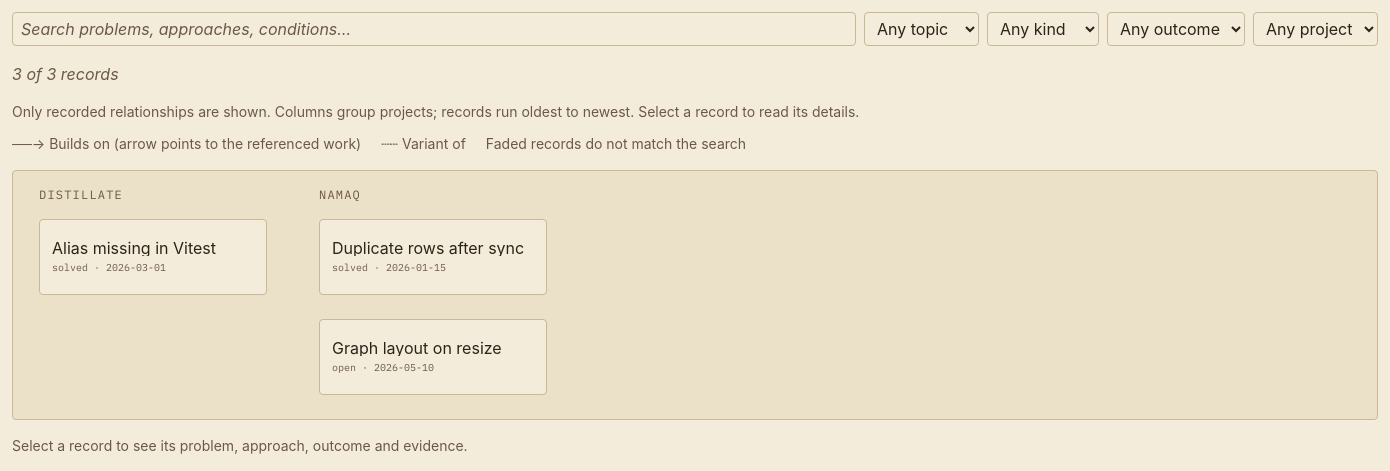
Scenario: RecordSearch graph mode › retains all graph nodes when Filter by kind narrows the matches
Select "detour" in the dropdown named "Filter by kind" at (1043,29), box [987,12,1099,46]
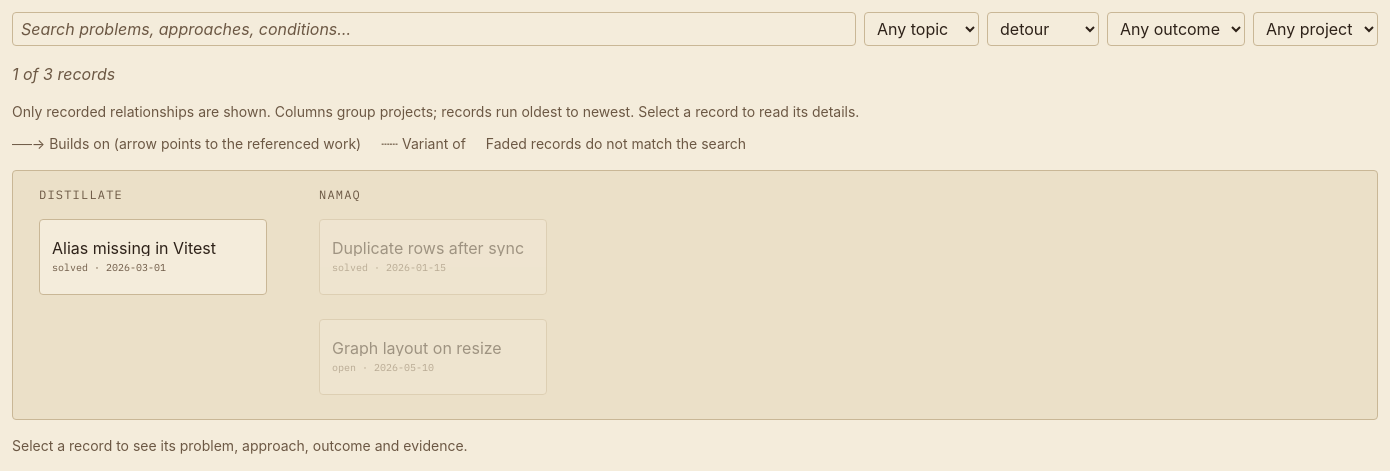
Expected: the text "1 of 3 records" is shown, [12,64,115,84]
